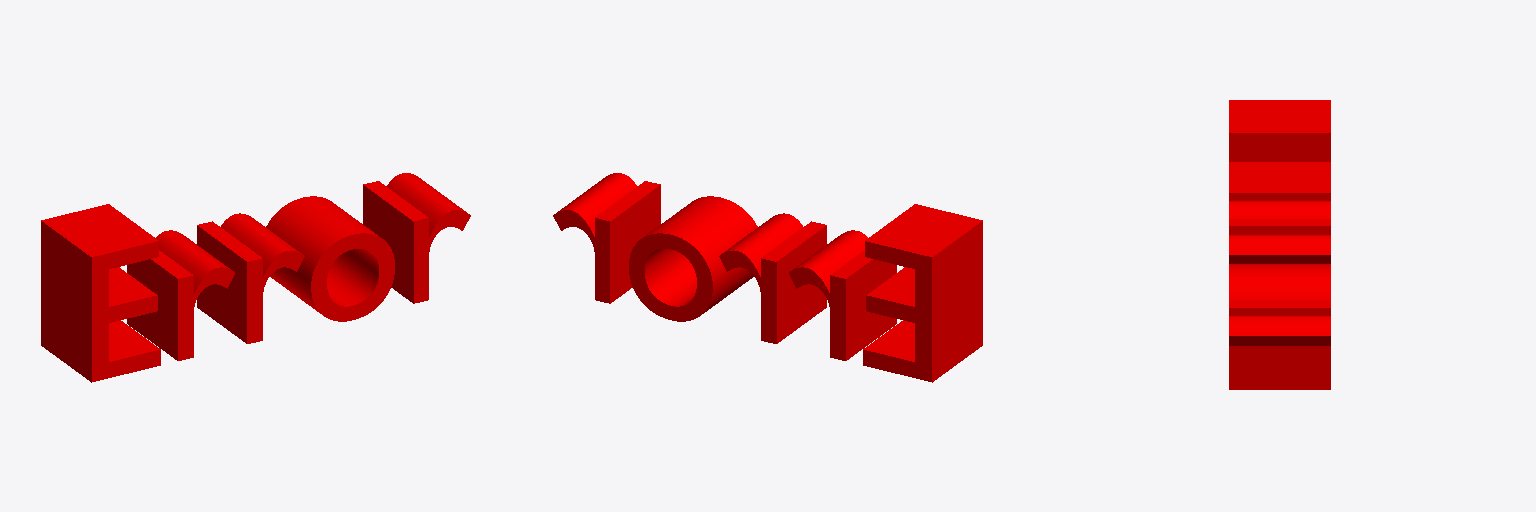
Rendered from Error.obj.
3 renders of one model, left to right at view 1: azimuth 30°, elevation 25°; view 2: azimuth 150°, elevation 25°; view 3: azimuth 270°, elevation 25°, orthographic.
Visible parts, largest first — view 1: Text; view 2: Text; view 3: Text.
Boxes of the visible parts, x1,y1,x2,y2 form: Text: [41, 173, 470, 382]; Text: [553, 173, 982, 382]; Text: [1229, 100, 1330, 389].
Bounding box in the file's own units: 6.84 × 2.18 × 1.58.